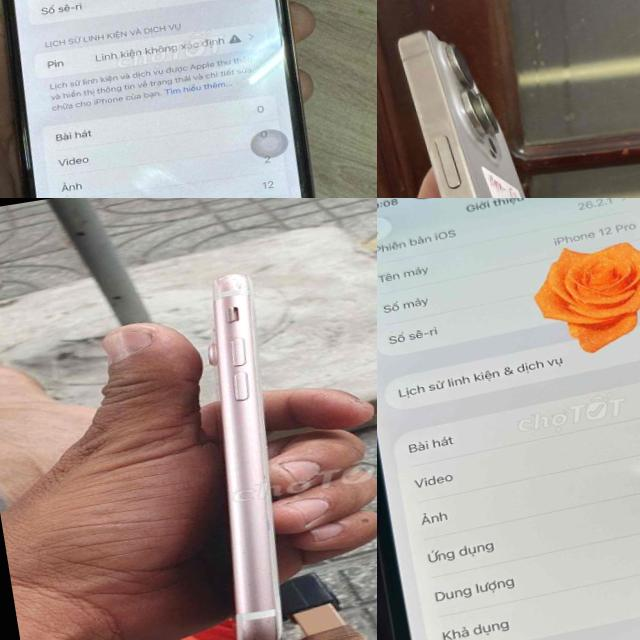gen_12_13: (377, 198, 640, 640)
gen_15: (386, 3, 640, 198)
gen_7_8: (174, 266, 317, 640)
gen_x_xs: (0, 0, 340, 198)
